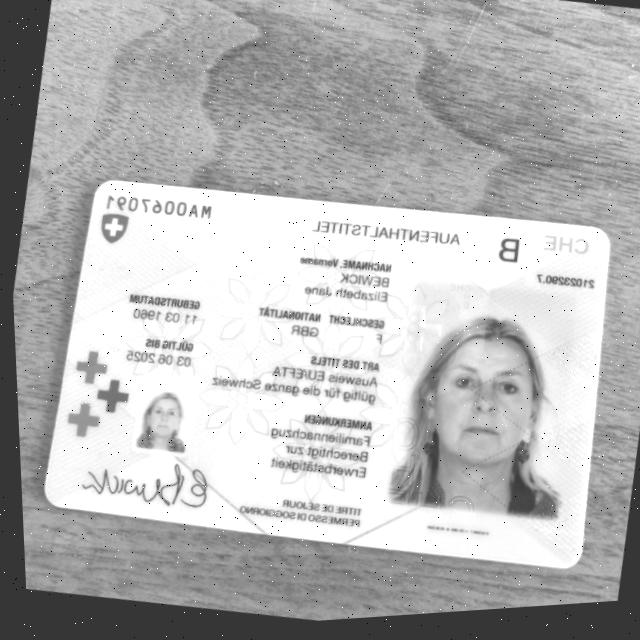card: (45, 182, 608, 567)
